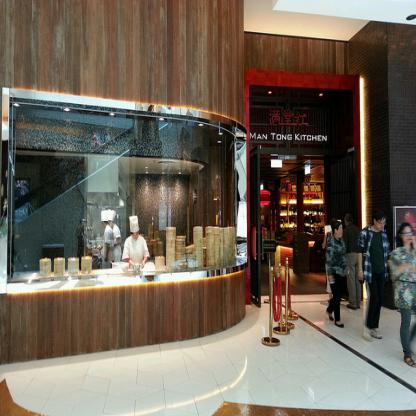handbag: (394, 280, 416, 310)
